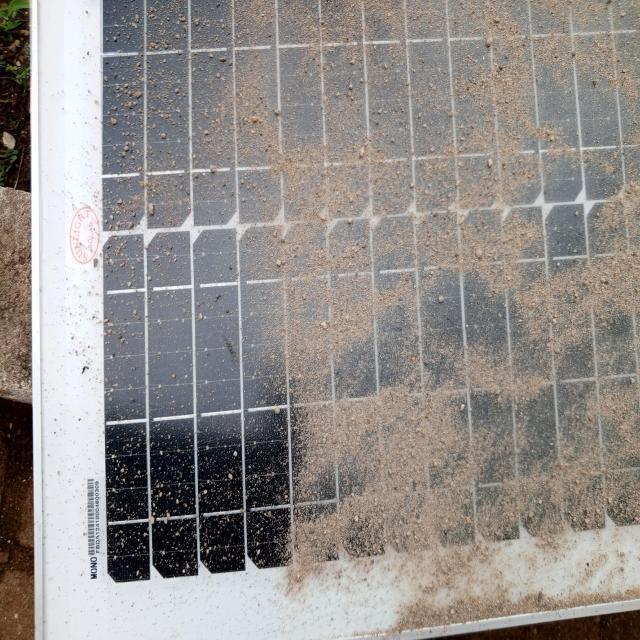Surface Contaminant: (112, 20, 639, 523)
